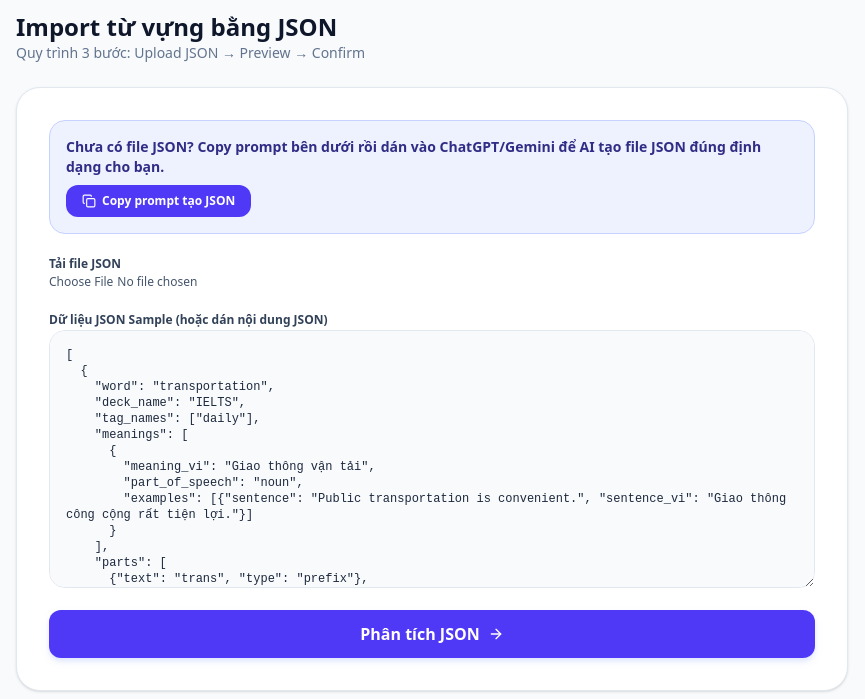
Scenario: JsonImportModal validation flow › keeps the existing paste workflow when no file is selected
Click the button "Phân tích JSON" at (432, 634), box [49,610,815,658]
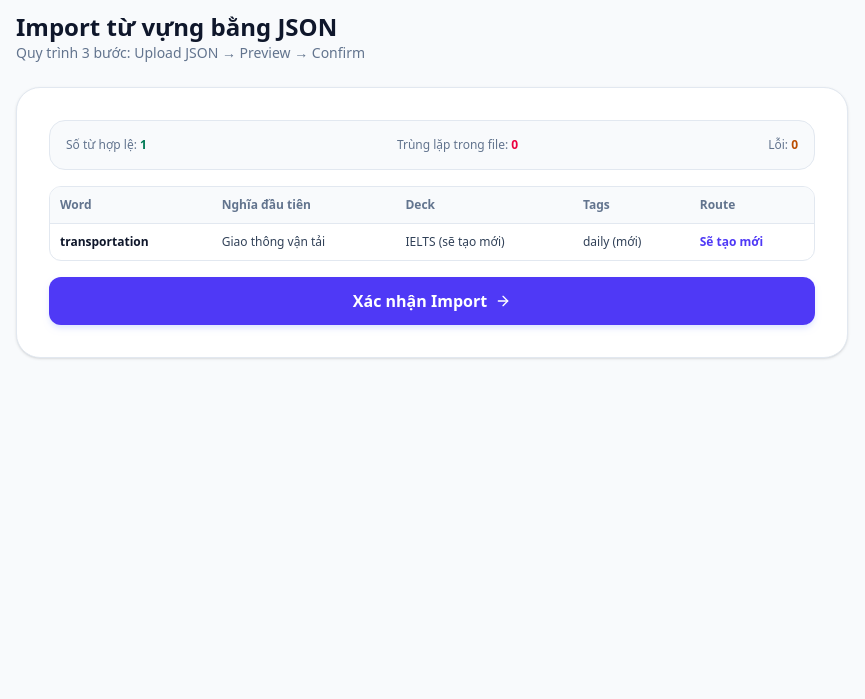
Check: the text "transportation" is shown, box [50,224,212,260]
